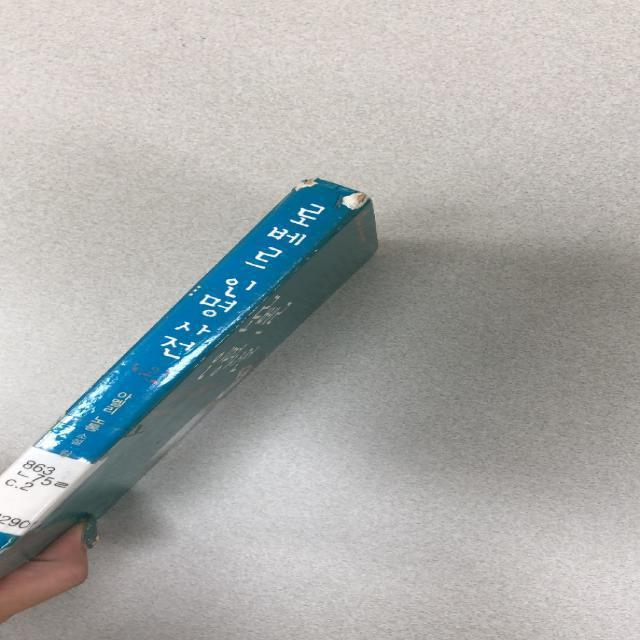Ripped: (334, 184, 386, 216), (283, 168, 322, 199)
